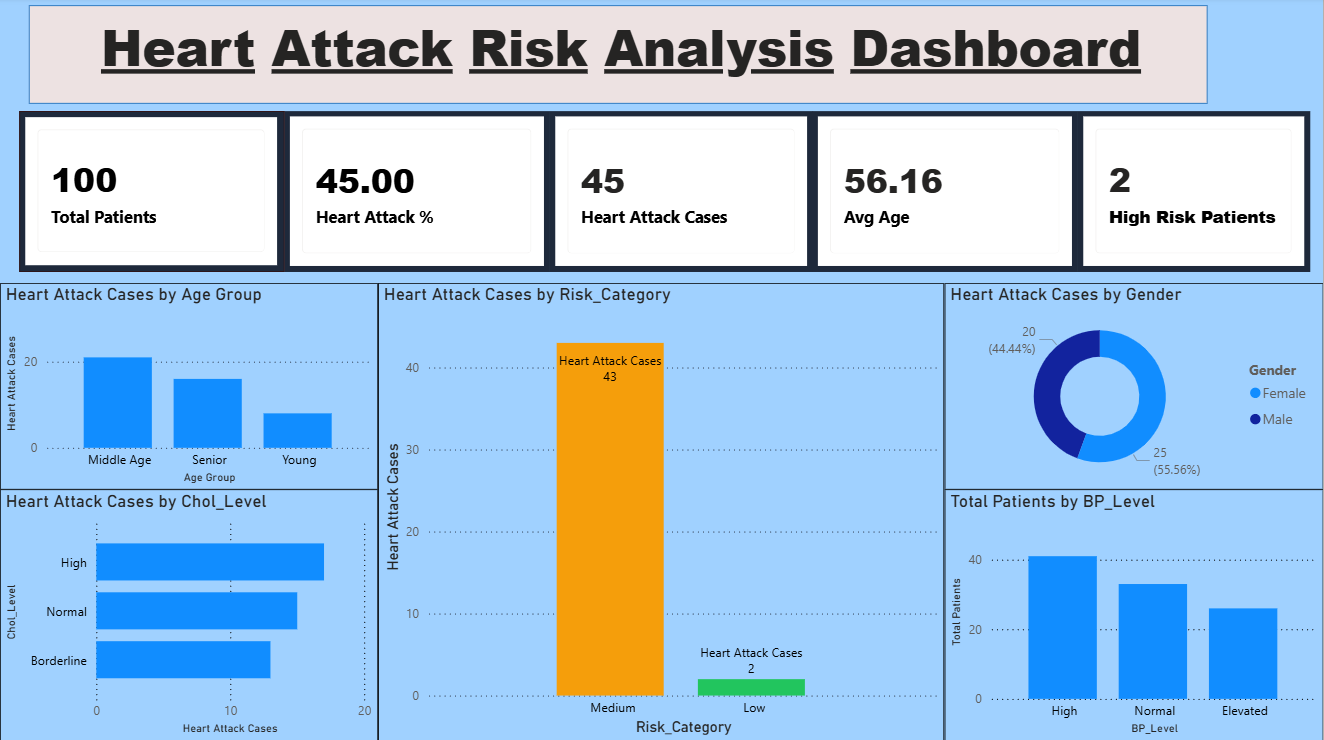

This screenshot's page, from the dashboard's own definition file:
{"tool":"powerbi","page":{"name":"Page 1","canvas":[1280,720],"ordinal":0},"visuals":[{"type":"cardVisual","fields":{"Data":["Heart_Attack_Data.Heart Attack %"]},"box":[275.6,110,256.7,155.6],"z":0},{"type":"cardVisual","fields":{"Data":["Heart_Attack_Data.Heart Attack Cases"]},"box":[532.2,110,254.4,155.6],"z":1000},{"type":"cardVisual","fields":{"Data":["Heart_Attack_Data.Avg Age"]},"box":[786.7,110,256.7,155.6],"z":2000},{"type":"clusteredColumnChart","fields":{"Category":["Heart_Attack_Data.Age_Group"],"Y":["Heart_Attack_Data.Heart Attack Cases"]},"box":[0,276.7,365.6,200],"z":3000},{"type":"donutChart","fields":{"Category":["Dim_Gender.Gender"],"Y":["Heart_Attack_Data.Heart Attack Cases"]},"box":[913.3,276.7,366.7,200],"z":4000},{"type":"barChart","fields":{"Category":["Heart_Attack_Data.Chol_Level"],"Y":["Heart_Attack_Data.Heart Attack Cases"]},"box":[0,476.7,365.6,243.3],"z":5000},{"type":"columnChart","fields":{"Category":["Heart_Attack_Data.BP_Level"],"Y":["Heart_Attack_Data.Total Patients"]},"box":[913.3,476.7,366.7,243.3],"z":6000},{"type":"textbox","box":[28.3,8.3,1140,95],"z":7000},{"type":"cardVisual","fields":{"Data":["Heart_Attack_Data.High Risk Patients"]},"box":[1043.3,110,224.4,155.6],"z":8000},{"type":"clusteredColumnChart","fields":{"Category":["Heart_Attack_Data.Risk_Category"],"Y":["Heart_Attack_Data.Heart Attack Cases"]},"box":[365.6,276.7,547.8,443.3],"z":9000},{"type":"cardVisual","fields":{"Data":["Heart_Attack_Data.Total Patients"]},"box":[18.9,110,256.7,155.6],"z":10000}]}

Visuals, with their boxes in screenshot pixels (x1, y1, x2, y2), scaled from the page's 1280x720 canvas onto the 1324x740 screenshot:
cardVisual - Heart_Attack_Data.Heart Attack %: {"x1": 285, "y1": 113, "x2": 551, "y2": 273}
cardVisual - Heart_Attack_Data.Heart Attack Cases: {"x1": 550, "y1": 113, "x2": 814, "y2": 273}
cardVisual - Heart_Attack_Data.Avg Age: {"x1": 814, "y1": 113, "x2": 1079, "y2": 273}
clusteredColumnChart - Heart_Attack_Data.Age_Group x Heart_Attack_Data.Heart Attack Cases: {"x1": 0, "y1": 284, "x2": 378, "y2": 490}
donutChart - Dim_Gender.Gender x Heart_Attack_Data.Heart Attack Cases: {"x1": 945, "y1": 284, "x2": 1323, "y2": 490}
barChart - Heart_Attack_Data.Chol_Level x Heart_Attack_Data.Heart Attack Cases: {"x1": 0, "y1": 490, "x2": 378, "y2": 739}
columnChart - Heart_Attack_Data.BP_Level x Heart_Attack_Data.Total Patients: {"x1": 945, "y1": 490, "x2": 1323, "y2": 739}
textbox: {"x1": 29, "y1": 9, "x2": 1208, "y2": 106}
cardVisual - Heart_Attack_Data.High Risk Patients: {"x1": 1079, "y1": 113, "x2": 1311, "y2": 273}
clusteredColumnChart - Heart_Attack_Data.Risk_Category x Heart_Attack_Data.Heart Attack Cases: {"x1": 378, "y1": 284, "x2": 945, "y2": 739}
cardVisual - Heart_Attack_Data.Total Patients: {"x1": 20, "y1": 113, "x2": 285, "y2": 273}
